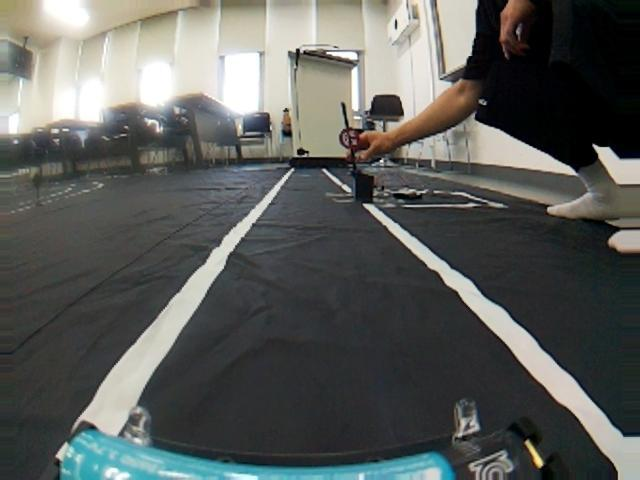sign_stop: (339, 127, 367, 150)
straight: (0, 207, 640, 480)
